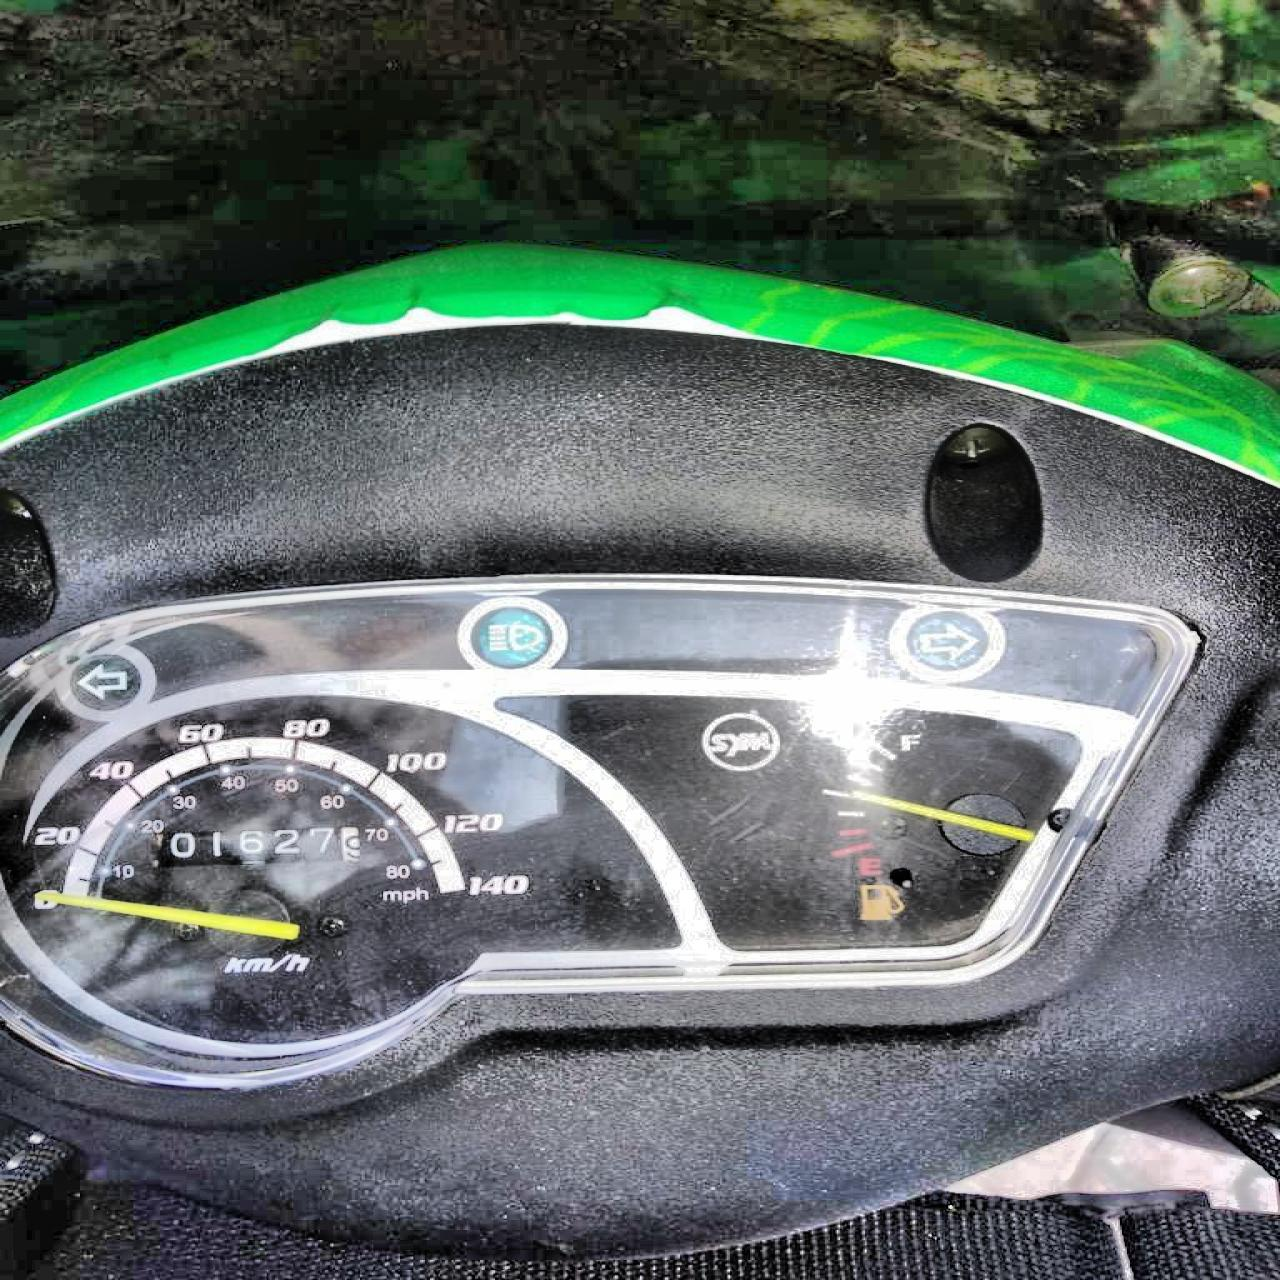0: (169, 830, 195, 860)
1: (209, 829, 226, 860)
2: (272, 826, 300, 855)
6: (234, 829, 264, 855)
7: (307, 825, 333, 855)
9: (340, 832, 362, 859)
odometer: (159, 824, 363, 867)
